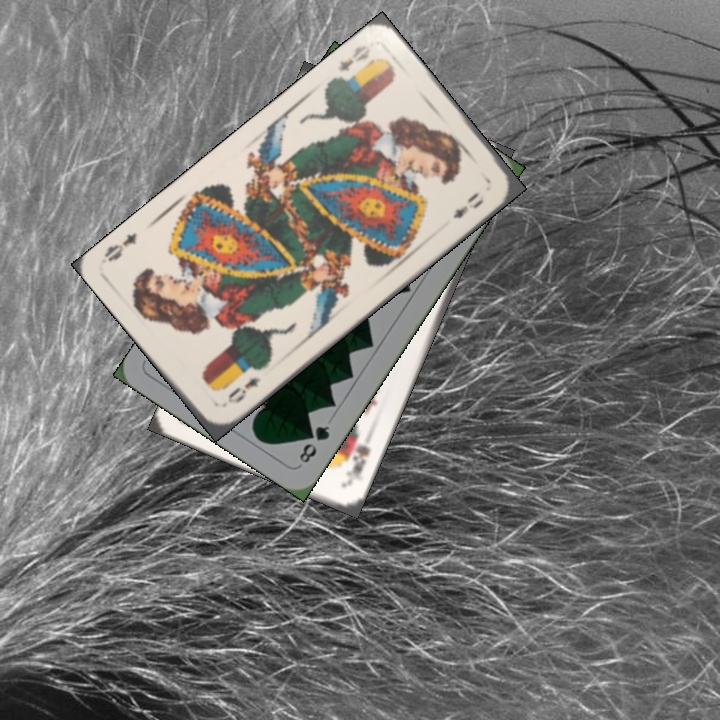EO: (218, 373, 263, 410), (333, 41, 374, 74)
G8: (295, 421, 333, 466)
SK: (342, 427, 373, 486)
